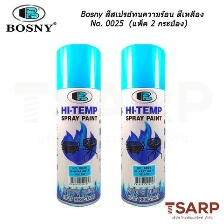aerosol_cans: (49, 39, 105, 210), (116, 40, 170, 210)
